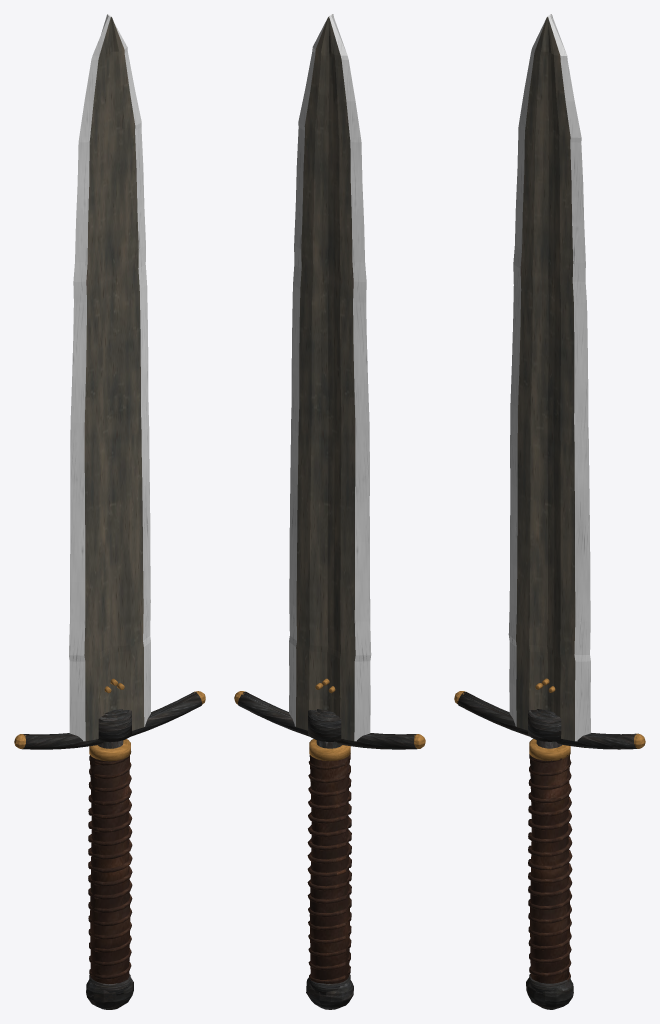
The model's file is vigil_greatsword.glb.
3 renders of one model, left to right at view 1: azimuth 30°, elevation 25°; view 2: azimuth 150°, elevation 25°; view 3: azimuth 330°, elevation 25°, orthographic.
Visible parts, largest first — view 1: Forged Blade with Eased Bevels.006, Bound palm grip.012, Continuous bound leather seam.012, Hand-forged crossguard.006, Rounded blade shoulder.006, Cast counterweight.005, Grip forward ferrule.012; view 2: Forged Blade with Eased Bevels.006, Bound palm grip.012, Continuous bound leather seam.012, Hand-forged crossguard.006, Rounded blade shoulder.006, Cast counterweight.005, Grip forward ferrule.012; view 3: Forged Blade with Eased Bevels.006, Bound palm grip.012, Continuous bound leather seam.012, Hand-forged crossguard.006, Rounded blade shoulder.006, Cast counterweight.005, Grip forward ferrule.012.
Boxes of the visible parts, x1,y1,x2,y2 form: Forged Blade with Eased Bevels.006: (69, 14, 150, 741); Bound palm grip.012: (90, 755, 130, 984); Continuous bound leather seam.012: (88, 751, 132, 979); Hand-forged crossguard.006: (22, 691, 202, 749); Rounded blade shoulder.006: (96, 710, 131, 742); Cast counterweight.005: (86, 977, 133, 1009); Grip forward ferrule.012: (89, 739, 130, 761); Forged Blade with Eased Bevels.006: (289, 14, 371, 741); Bound palm grip.012: (309, 755, 349, 983); Continuous bound leather seam.012: (307, 754, 351, 983); Hand-forged crossguard.006: (238, 691, 416, 749); Rounded blade shoulder.006: (308, 710, 344, 741); Cast counterweight.005: (306, 977, 353, 1009); Grip forward ferrule.012: (309, 739, 350, 761); Forged Blade with Eased Bevels.006: (508, 14, 590, 741); Bound palm grip.012: (530, 755, 569, 983); Continuous bound leather seam.012: (528, 754, 572, 981); Hand-forged crossguard.006: (458, 691, 638, 749); Rounded blade shoulder.006: (528, 710, 563, 741); Cast counterweight.005: (526, 977, 573, 1009); Grip forward ferrule.012: (529, 739, 570, 760).
Bounding box in the file's own units: 0.3458 × 1.72 × 0.0696.
5 materials, 5 textured.
